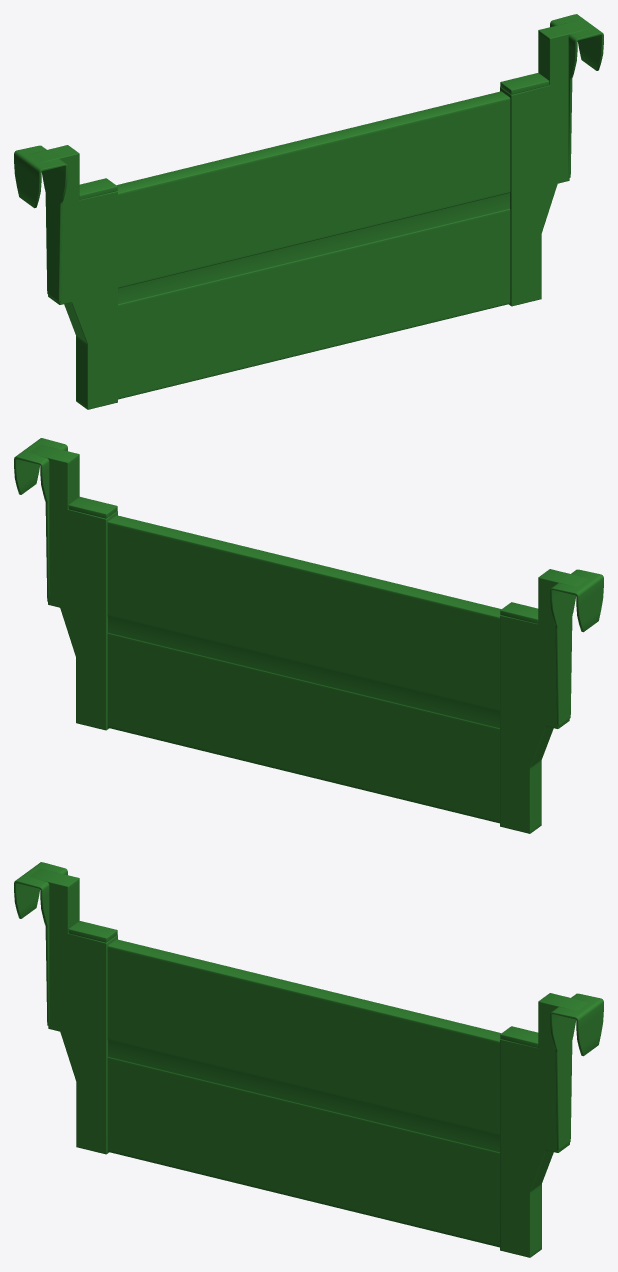
The model's file is SM_Drawer_Divider_02.fbx.
3 views of the same model, one above another, from view 1: azimuth 30°, elevation 25°; view 2: azimuth 150°, elevation 25°; view 3: azimuth 330°, elevation 25° (orthographic).
Parts seen in each view (by area): view 1: SM_Drawer_Divider_02; view 2: SM_Drawer_Divider_02; view 3: SM_Drawer_Divider_02.
Boxes of the visible parts, x1,y1,x2,y2 form: SM_Drawer_Divider_02: (14, 14, 603, 409); SM_Drawer_Divider_02: (14, 438, 603, 833); SM_Drawer_Divider_02: (14, 862, 603, 1257).
Size of the model in its own units: 35.49 by 15.55 by 2.81.
